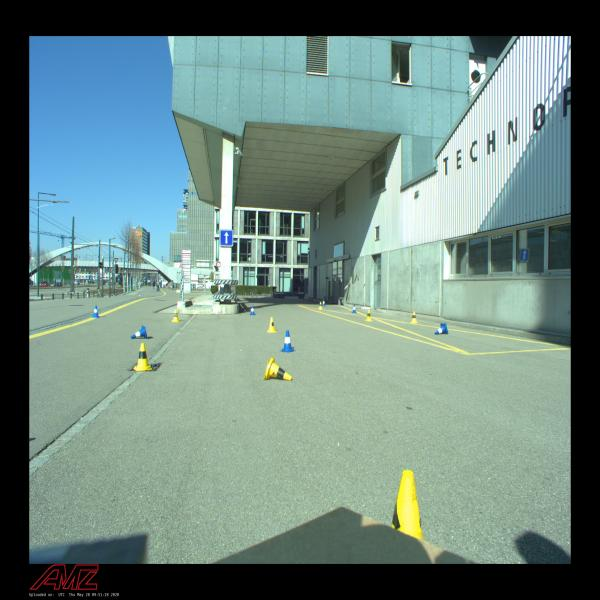blue_cone: (280, 331, 296, 352), (131, 325, 148, 339), (434, 323, 449, 335), (92, 305, 100, 318), (250, 306, 256, 315), (352, 305, 356, 313), (322, 300, 326, 306)
yellow_cone: (391, 470, 423, 541), (263, 356, 292, 381), (133, 343, 153, 371), (266, 317, 277, 333), (171, 309, 180, 322), (410, 312, 418, 324), (365, 310, 373, 321), (318, 302, 323, 310)
